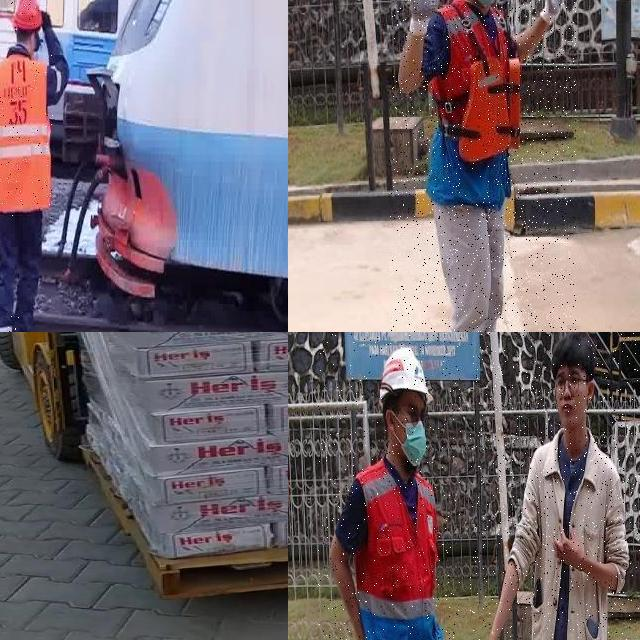GLASS: (396, 405, 430, 428)
GLOVE: (402, 0, 445, 33), (541, 0, 566, 22)
HELMET: (378, 345, 434, 407), (11, 0, 44, 31)
VEST: (427, 0, 524, 203), (356, 460, 444, 640), (0, 53, 53, 217)
